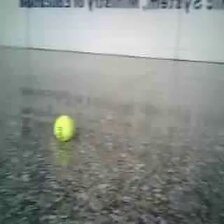tennis: (53, 115, 75, 140)
